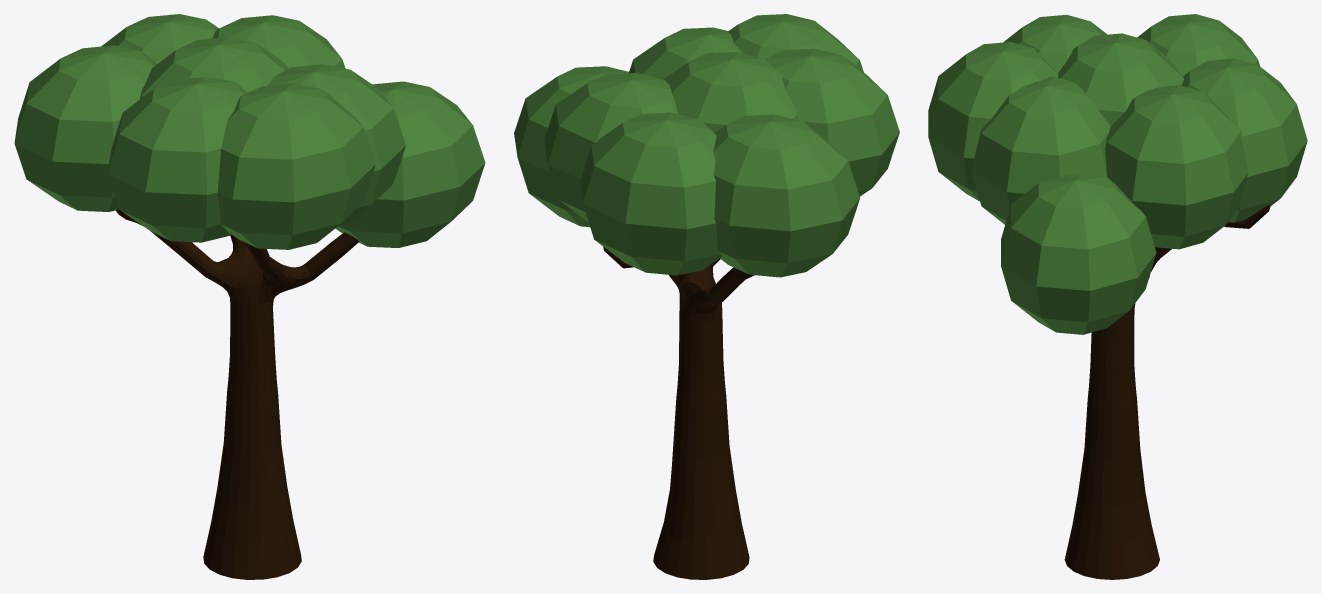
File: arvore e folhas.fbx
3 renders of one model, left to right at view 1: azimuth 30°, elevation 25°; view 2: azimuth 150°, elevation 25°; view 3: azimuth 270°, elevation 25°, orthographic. The views are drawn at different scales.
Parts seen in each view (by area): view 1: Cylinder; view 2: Cylinder; view 3: Cylinder.
Boxes of the visible parts, x1=… form: Cylinder: x1=14, y1=14, x2=485, y2=579; Cylinder: x1=514, y1=14, x2=899, y2=579; Cylinder: x1=928, y1=14, x2=1307, y2=579.
Bounding box in the file's own units: 604 × 763 × 523.
